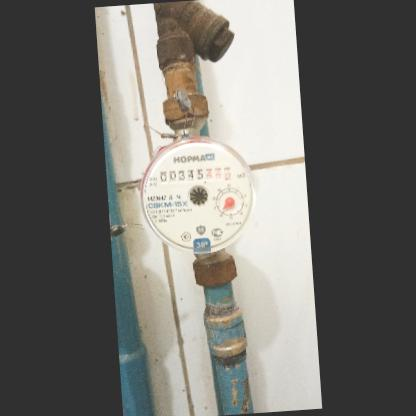digital_screen: (156, 163, 205, 187)
